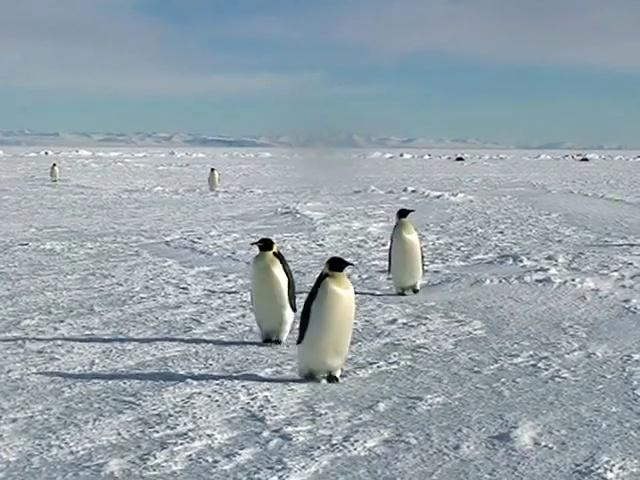animal: (388, 208, 423, 294)
